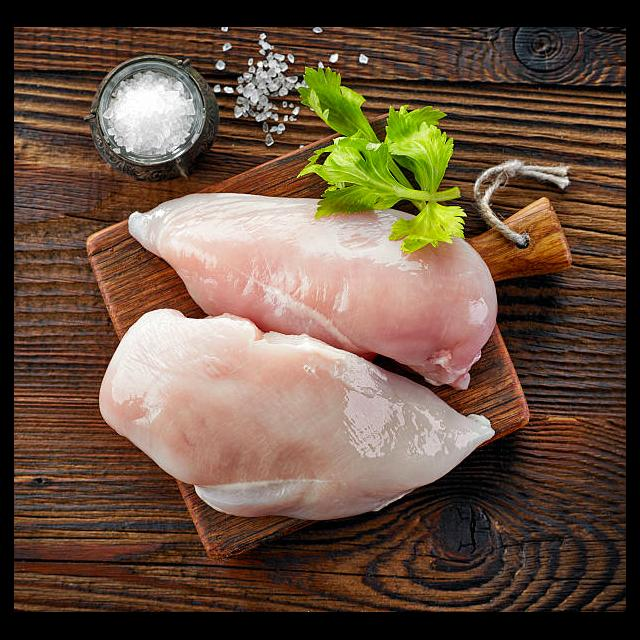chicken: (99, 197, 498, 519)
